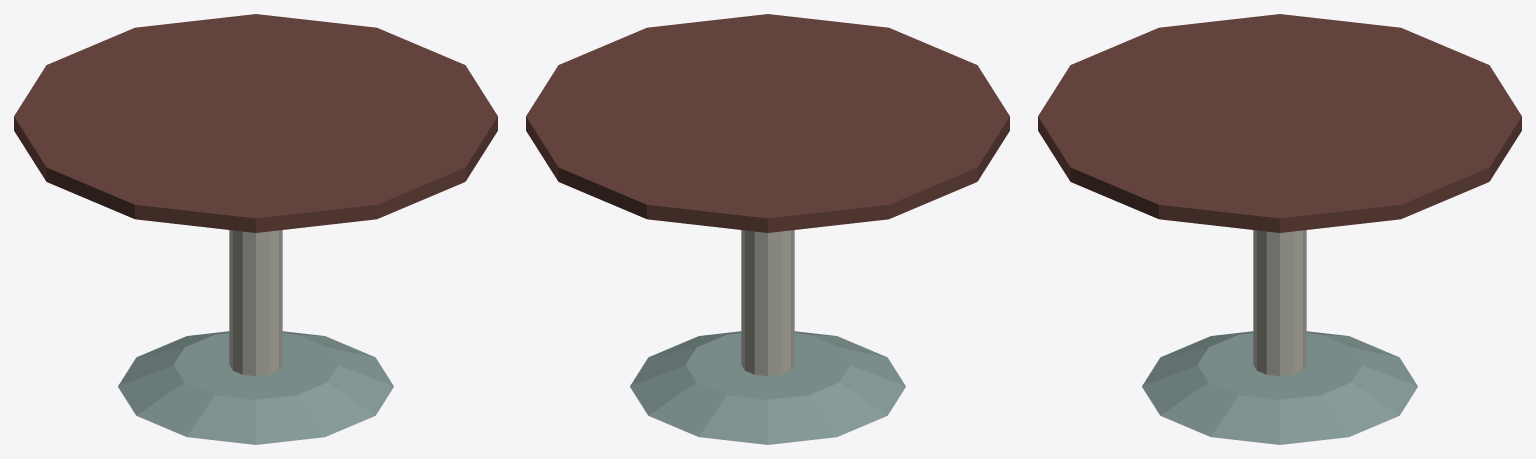
Rendered from stol_Lab.fbx.
3 renders of one model, left to right at view 1: azimuth 30°, elevation 25°; view 2: azimuth 150°, elevation 25°; view 3: azimuth 270°, elevation 25°, orthographic.
Parts seen in each view (by area): view 1: Cylinder.022; view 2: Cylinder.022; view 3: Cylinder.022.
Boxes of the visible parts, x1,y1,x2,y2 form: Cylinder.022: (14,14,497,444); Cylinder.022: (526,14,1009,444); Cylinder.022: (1038,14,1521,444).
Bounding box in the file's own units: 238 × 147 × 238.
